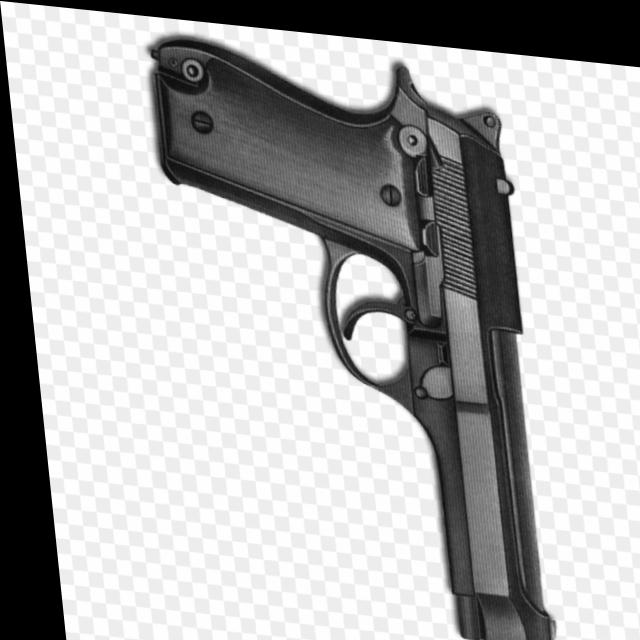handgun: (147, 35, 546, 640)
